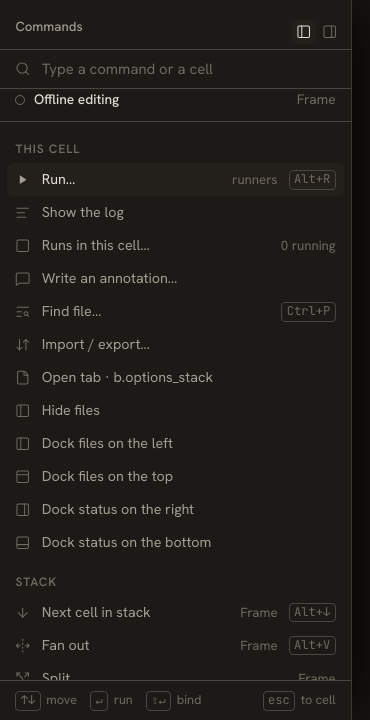
CommandPane › the Dock files rows, left and top, sit under This cell, each with its side's panel icon; the files row's icon follows the side (FP-03)
Check: the icon with class "lucide-panel-left" next to "Dock files on the left" is shown, box [15,436,31,452]
Check: the icon with class "lucide-panel-top" is shown, box [15,469,31,484]
Click the option "Dock files on the top".
click(94, 476)  # box [15,467,173,485]
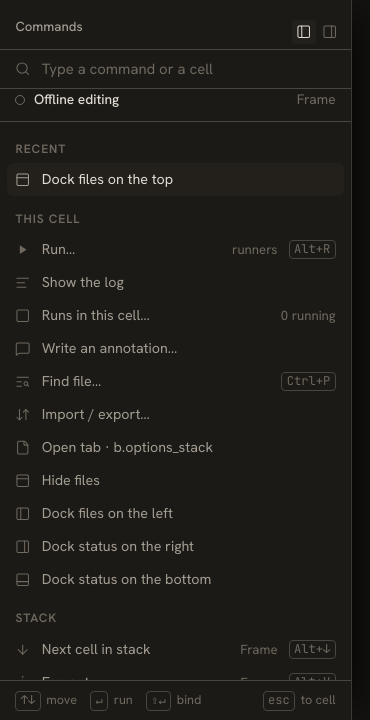
Check: the icon with class "lucide-panel-top" next to "Hide files" is shown, box [15,473,31,488]
